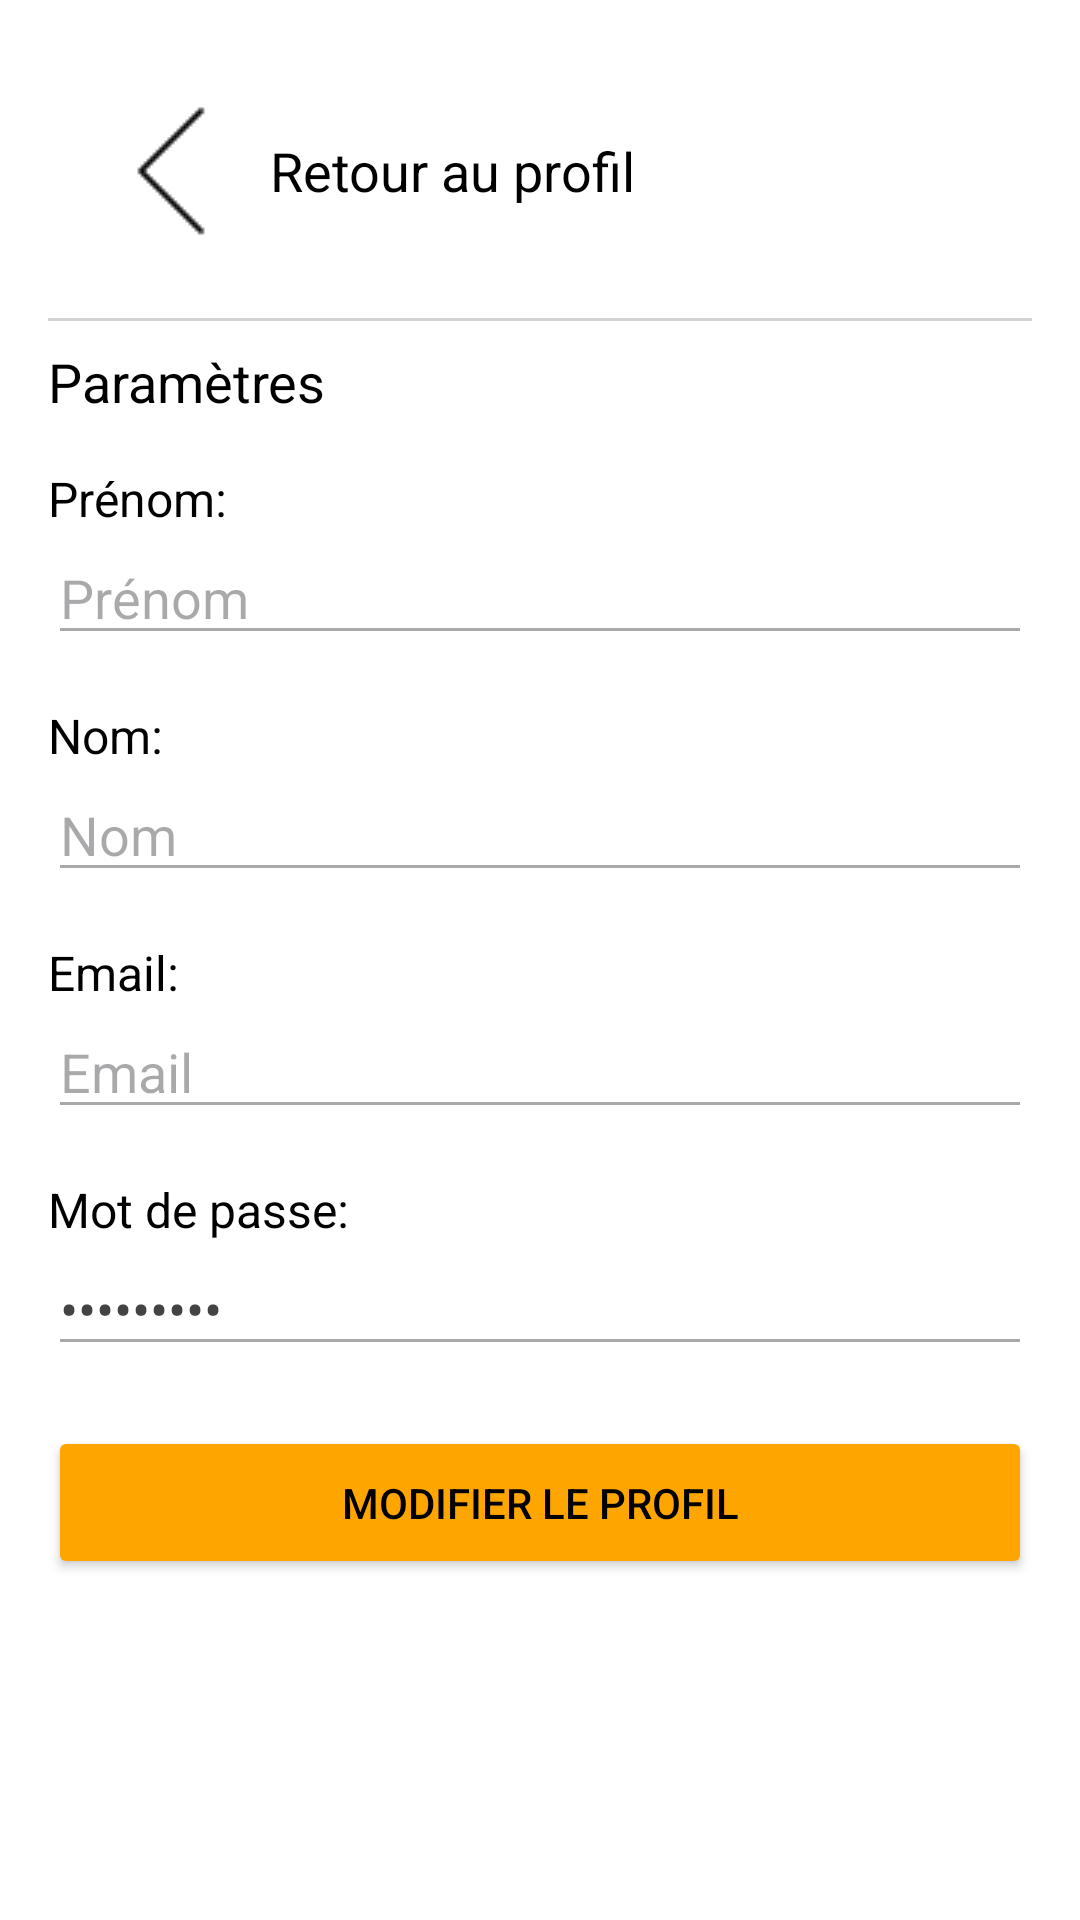

Icon click points for this 1080px x 1920px phone screenshot, format (x,y):
Icône flèche: (171,171)
